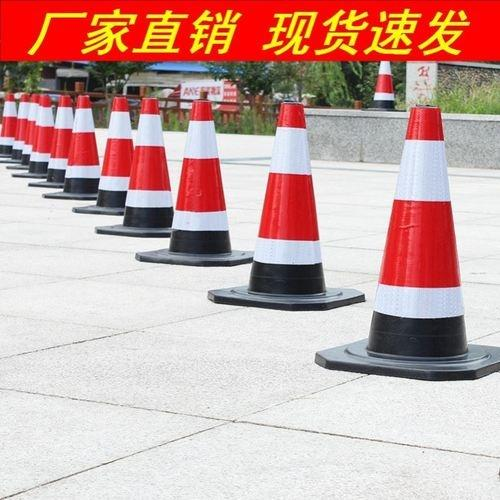cone_barrel: (358, 109, 482, 363), (242, 101, 339, 301), (165, 98, 235, 263), (121, 96, 174, 231), (94, 93, 136, 212), (61, 95, 100, 193), (44, 96, 73, 183), (26, 94, 54, 176), (369, 56, 396, 109)
